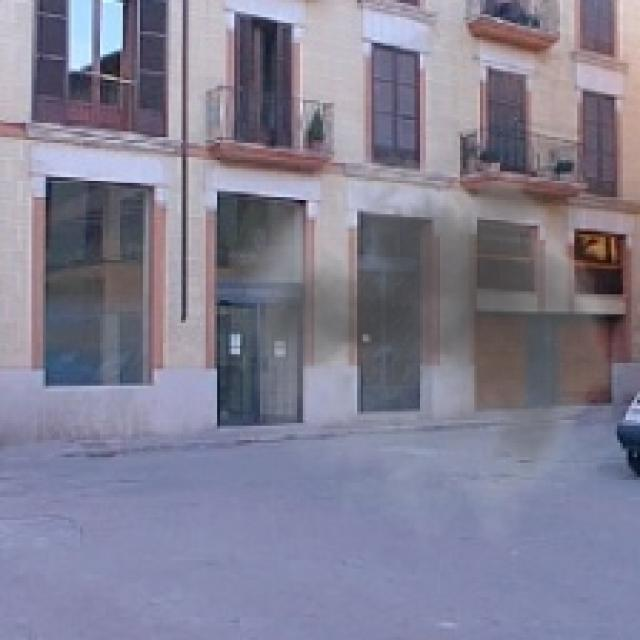Smoke: (228, 135, 638, 554)
